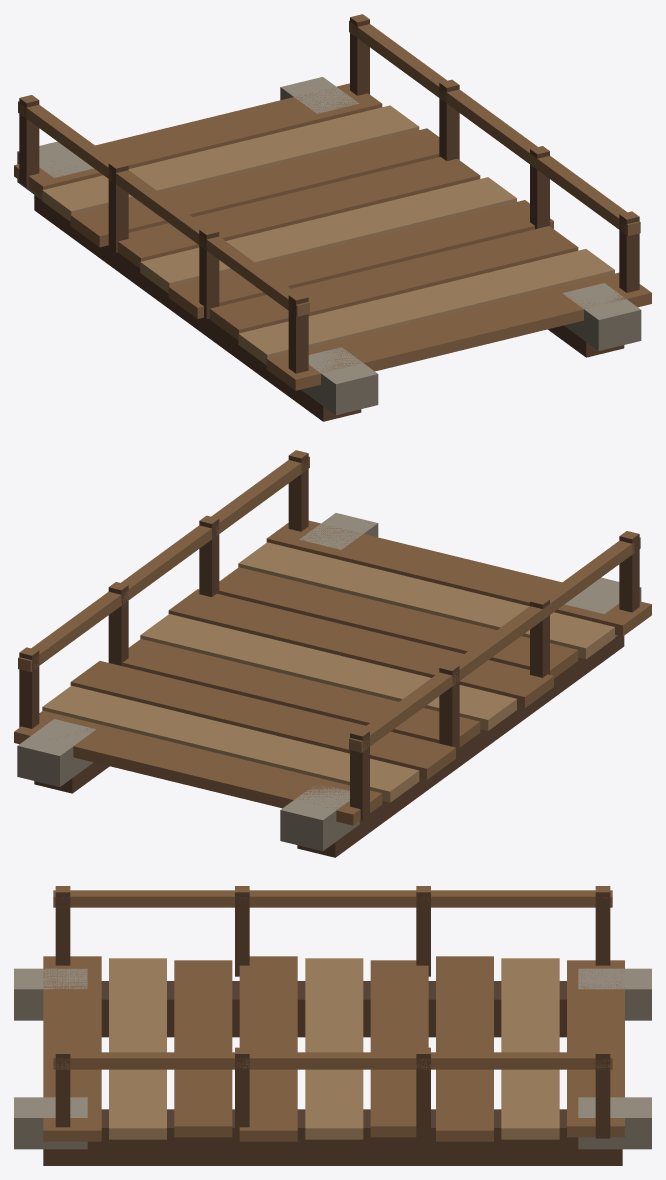
File: footbridge.glb
3 views of the same model, one above another, from view 1: azimuth 30°, elevation 25°; view 2: azimuth 150°, elevation 25°; view 3: azimuth 270°, elevation 25° (orthographic).
Visible parts, largest first — view 1: footbridge; view 2: footbridge; view 3: footbridge.
Part boxes in pixels (left/top/right/bottom): footbridge: left=14, top=14, right=651, bottom=421; footbridge: left=14, top=450, right=651, bottom=857; footbridge: left=14, top=886, right=651, bottom=1165.
Bounding box in the file's own units: 1.68 × 0.55 × 2.6.
